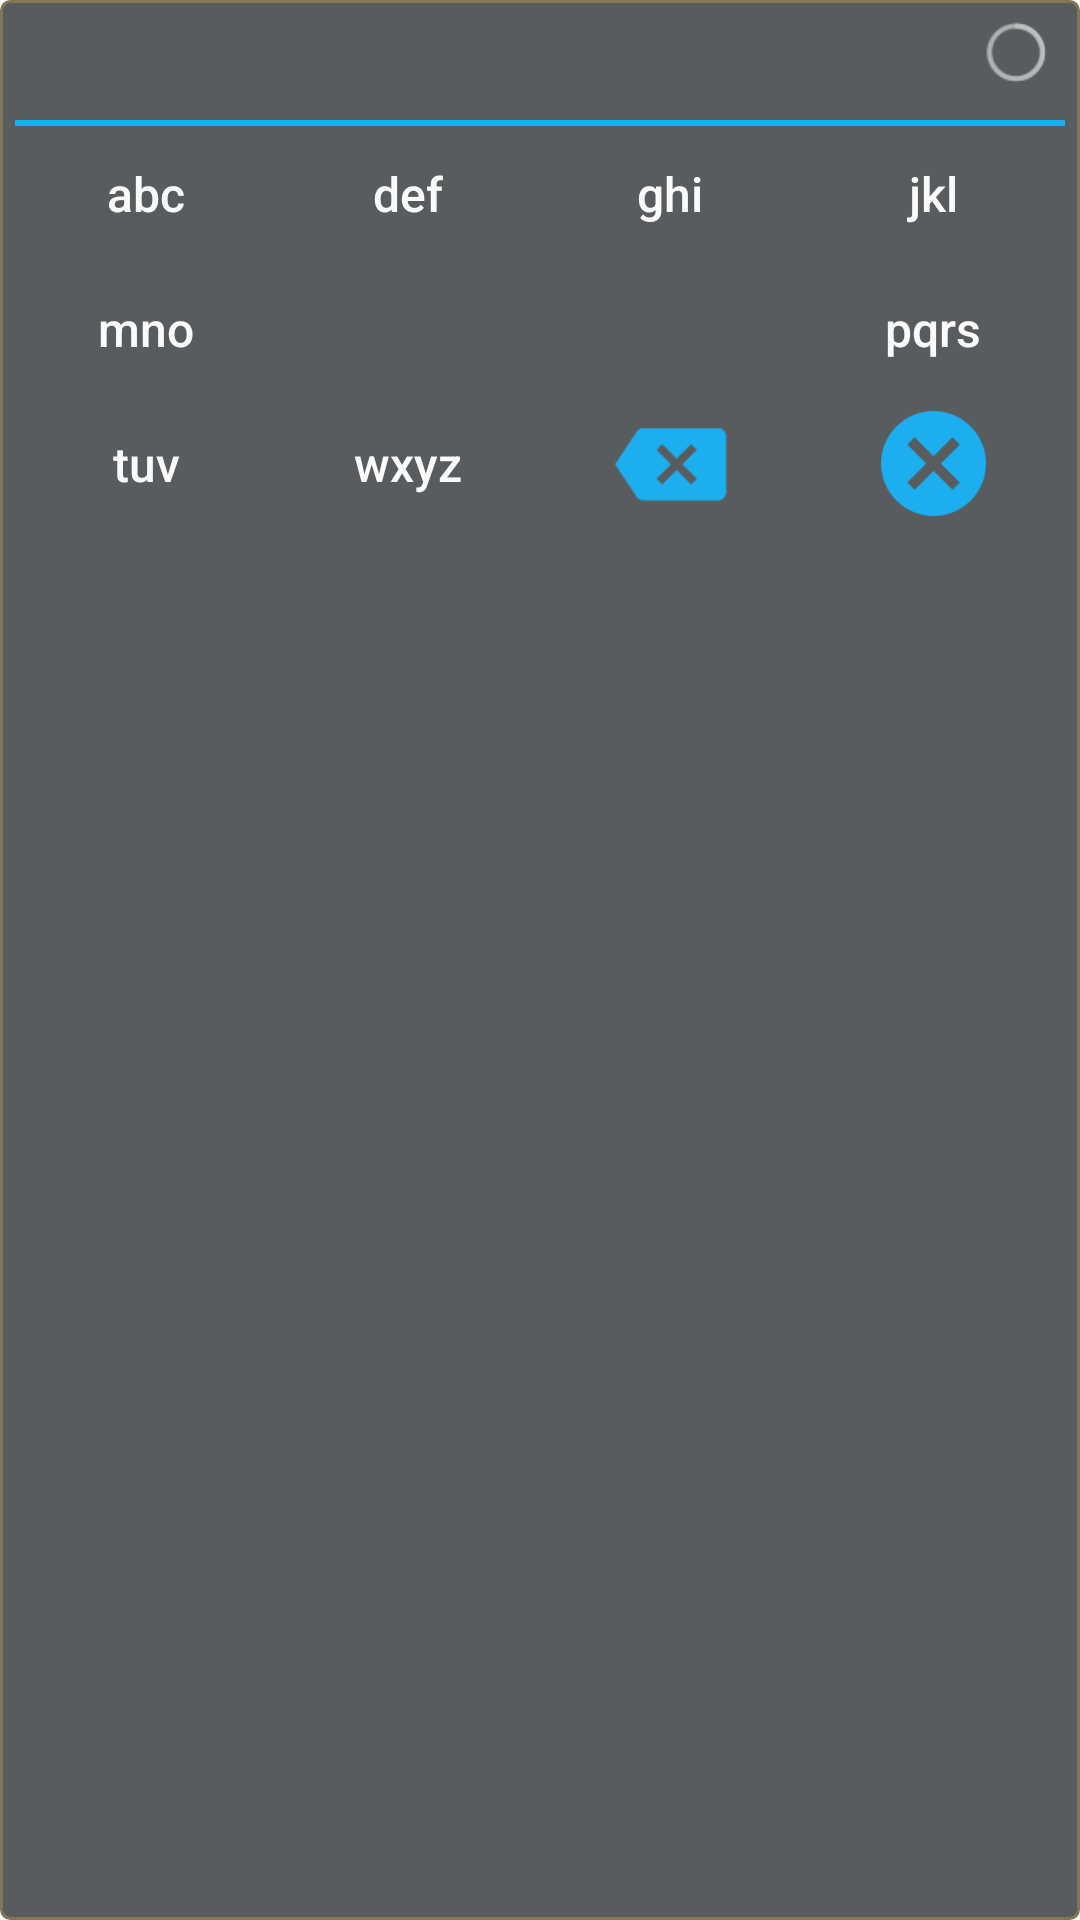

Where icons sit on this 1080px x 1920px app screen, as (x1, y1, x2, y2):
backspace arrow: (615, 428, 727, 501)
cancel: (881, 411, 986, 516)
